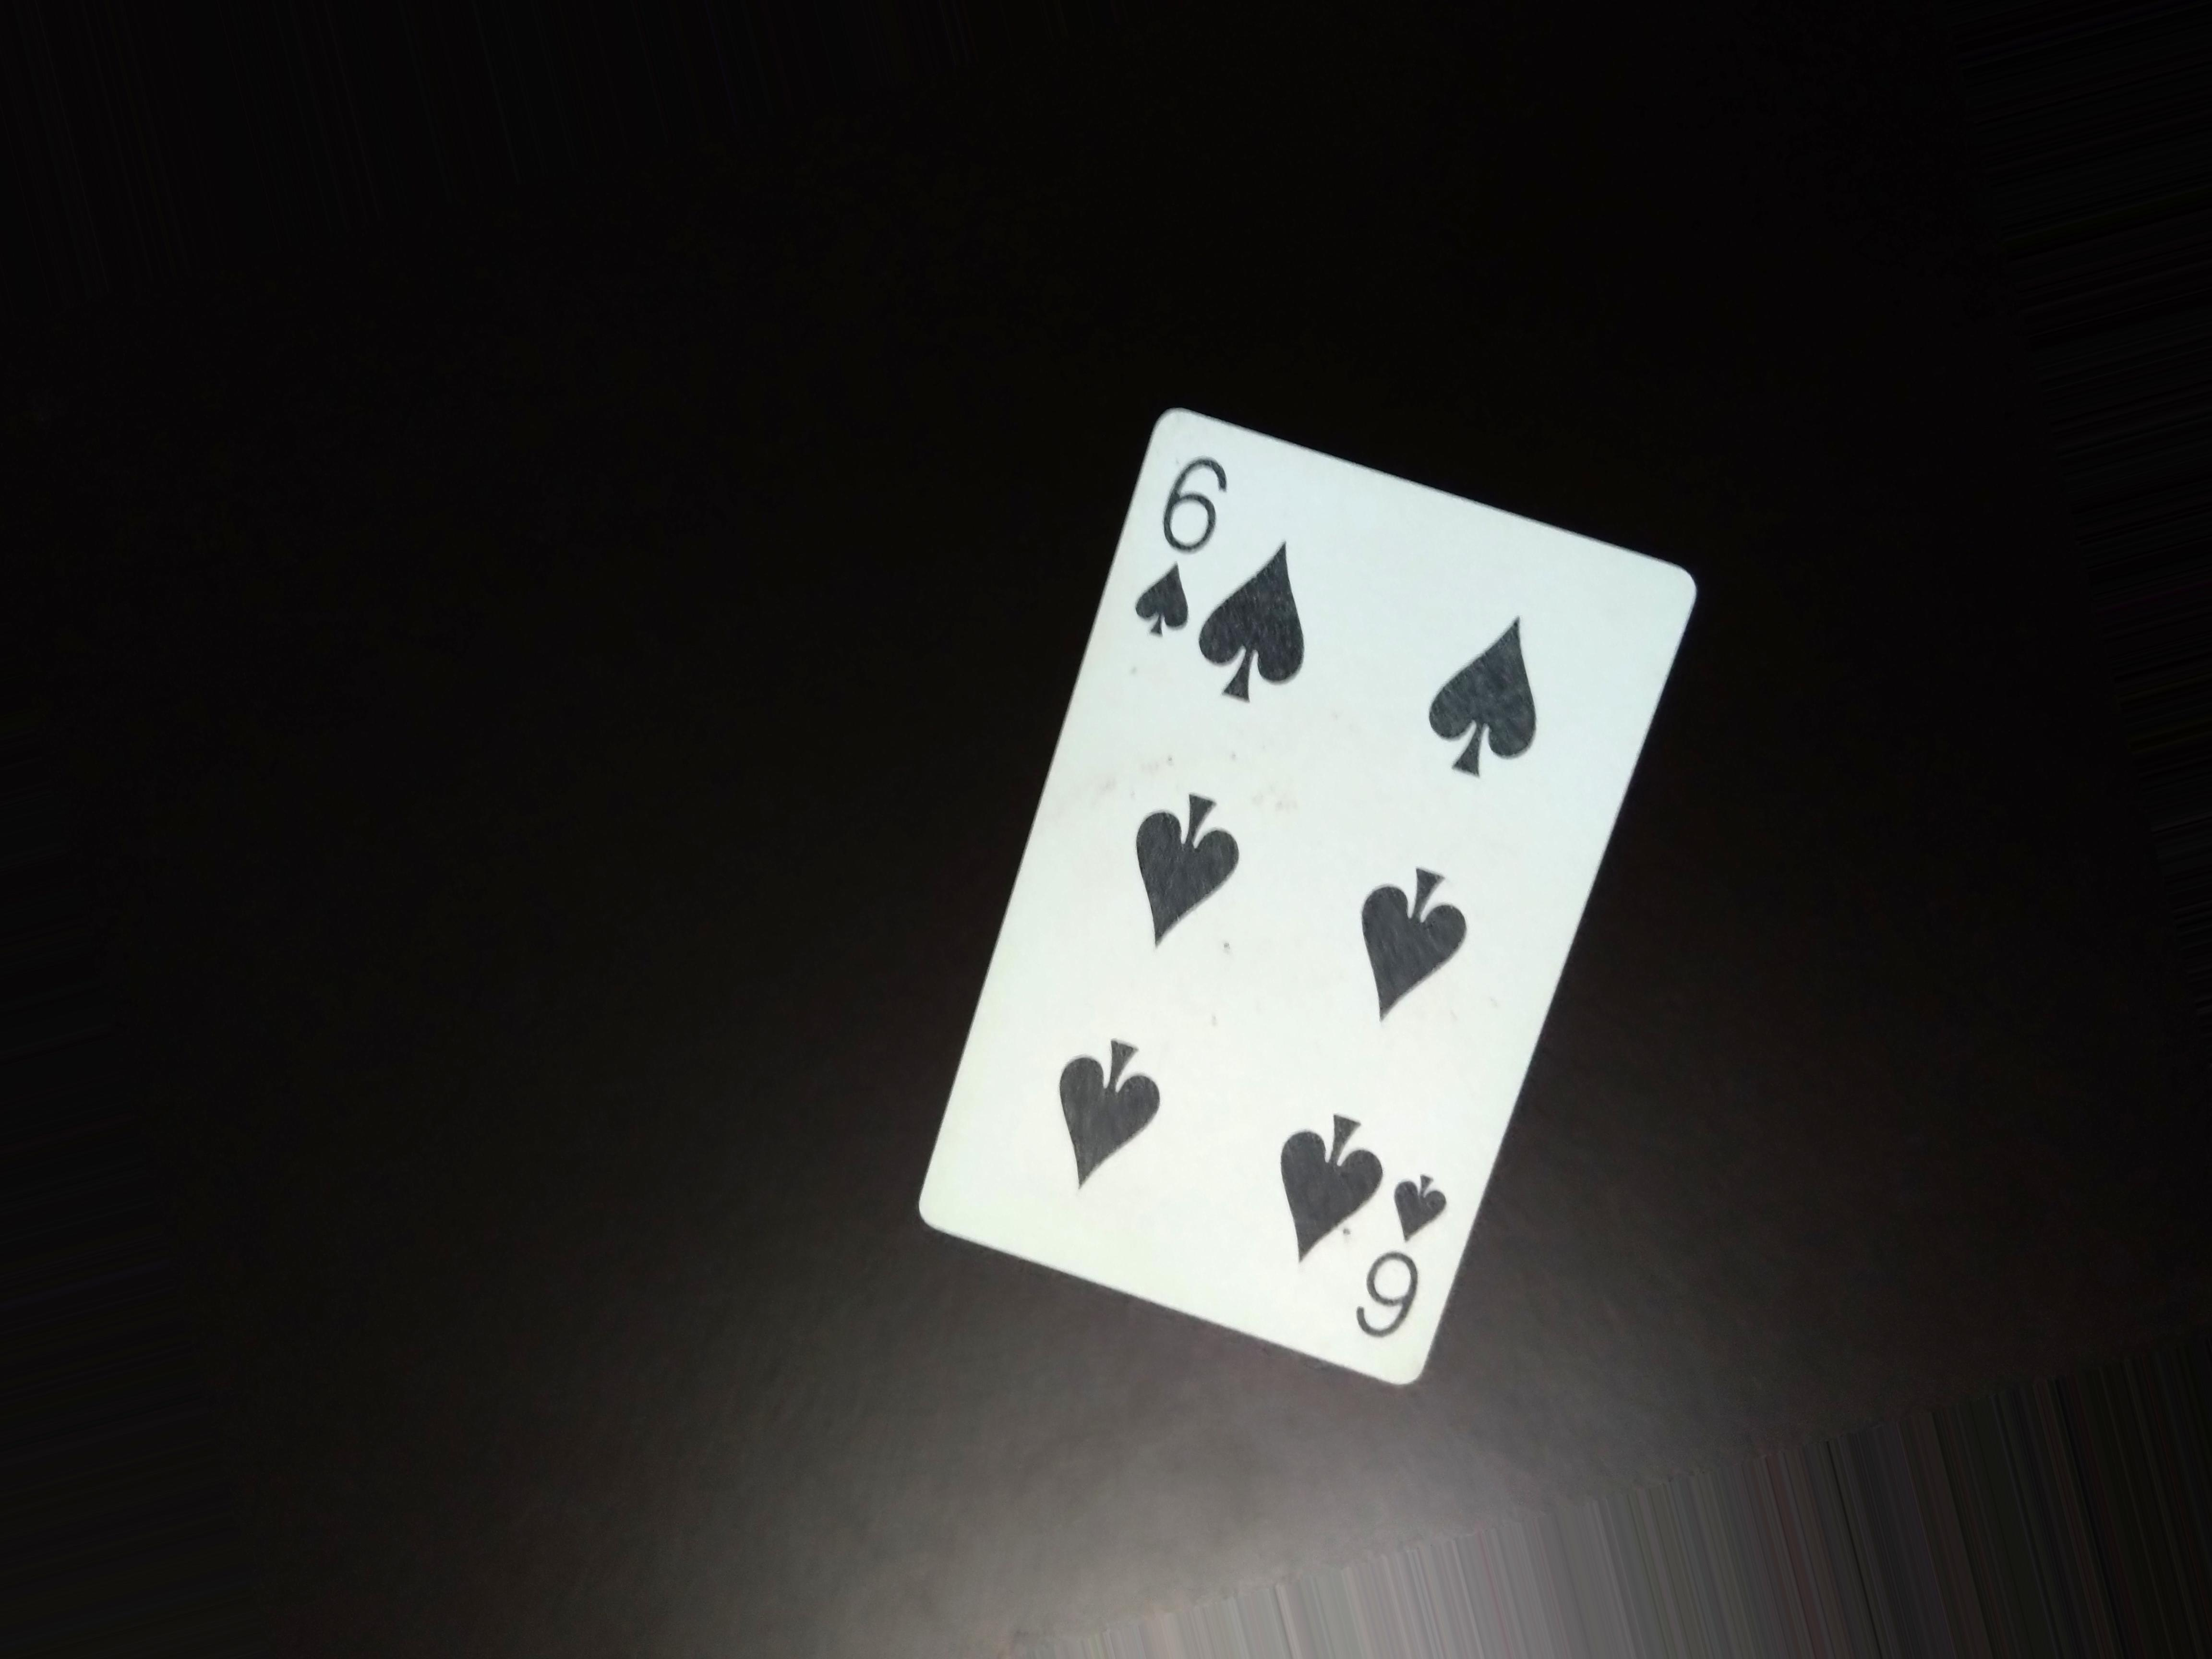6S: (1122, 444, 1233, 655)
